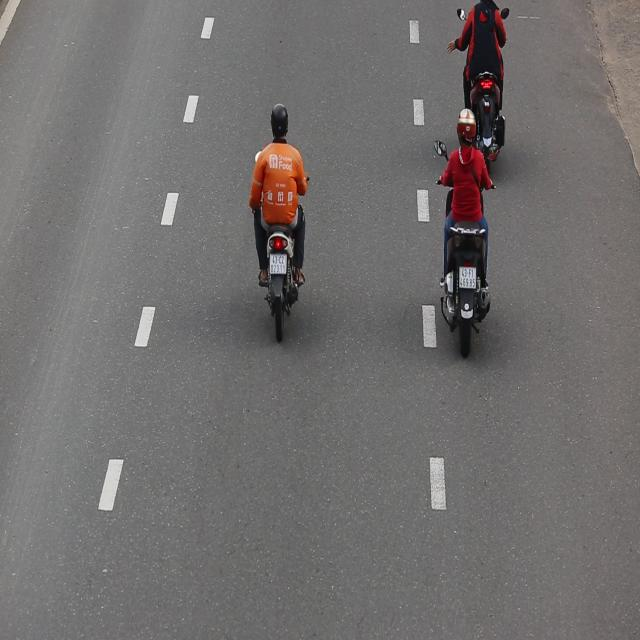motorbike: (435, 107, 499, 363), (248, 100, 313, 348)
